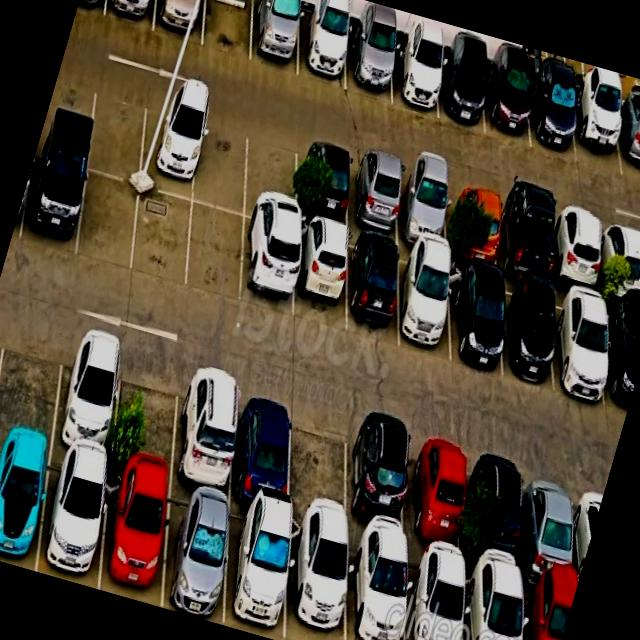empty: (111, 344, 181, 482), (0, 311, 66, 444), (289, 396, 348, 532), (76, 171, 139, 272), (131, 187, 192, 290), (87, 78, 147, 182), (192, 109, 247, 215), (185, 203, 243, 303), (244, 123, 297, 230), (202, 0, 253, 61)
occupied: (36, 449, 108, 589), (51, 326, 123, 463), (161, 484, 229, 625), (100, 467, 168, 607), (172, 361, 239, 499), (223, 502, 289, 640), (230, 378, 293, 512), (348, 411, 409, 548), (407, 426, 463, 565), (285, 518, 346, 640), (19, 150, 87, 257), (523, 458, 575, 593), (472, 444, 524, 579), (0, 435, 51, 571), (139, 93, 201, 200), (553, 287, 607, 404), (498, 277, 553, 386), (293, 220, 347, 331), (448, 264, 501, 377), (347, 537, 405, 640), (398, 248, 450, 362), (345, 233, 398, 344), (240, 219, 293, 318), (406, 550, 463, 640), (296, 138, 350, 228), (498, 192, 550, 285), (448, 178, 498, 269), (349, 151, 399, 240), (398, 164, 447, 252), (571, 89, 621, 175), (465, 566, 521, 640), (604, 300, 640, 415), (553, 206, 600, 293), (297, 9, 348, 89), (530, 74, 576, 161), (485, 62, 530, 146), (250, 0, 299, 76), (437, 53, 484, 132), (391, 39, 437, 117), (600, 217, 640, 304), (345, 27, 391, 101), (522, 580, 575, 640), (153, 0, 205, 45), (613, 100, 640, 181), (104, 0, 155, 30)
